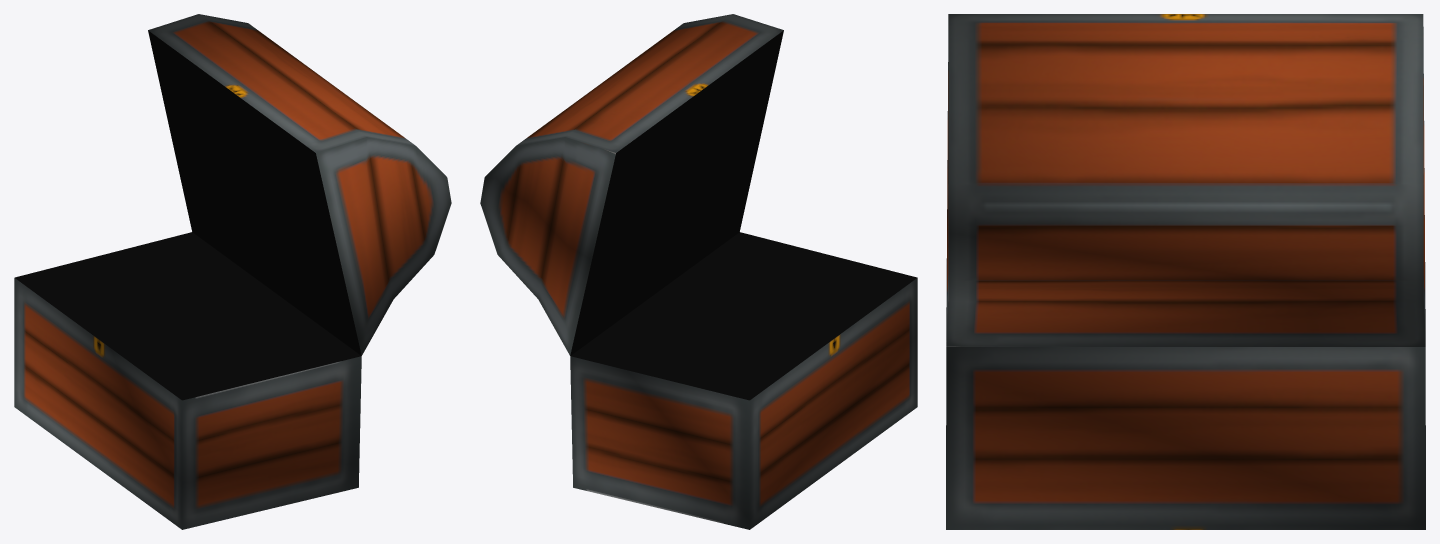
File: cofrenormal_000007.obj
3 views of the same model, side by side, from view 1: azimuth 30°, elevation 25°; view 2: azimuth 150°, elevation 25°; view 3: azimuth 270°, elevation 25° (orthographic). The views are drawn at different scales.
Visible parts, largest first — view 1: cofre; view 2: cofre; view 3: cofre.
Part boxes in pixels (left/top/right/bottom): cofre: left=14, top=14, right=451, bottom=529; cofre: left=480, top=14, right=917, bottom=529; cofre: left=946, top=14, right=1425, bottom=529.
Bounding box in the file's own units: 5.81 × 7.17 × 6.34.
